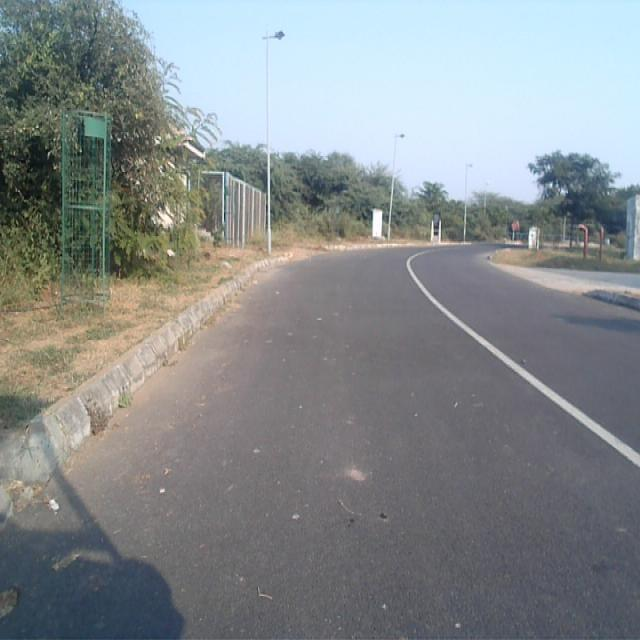lane: (2, 249, 640, 640)
